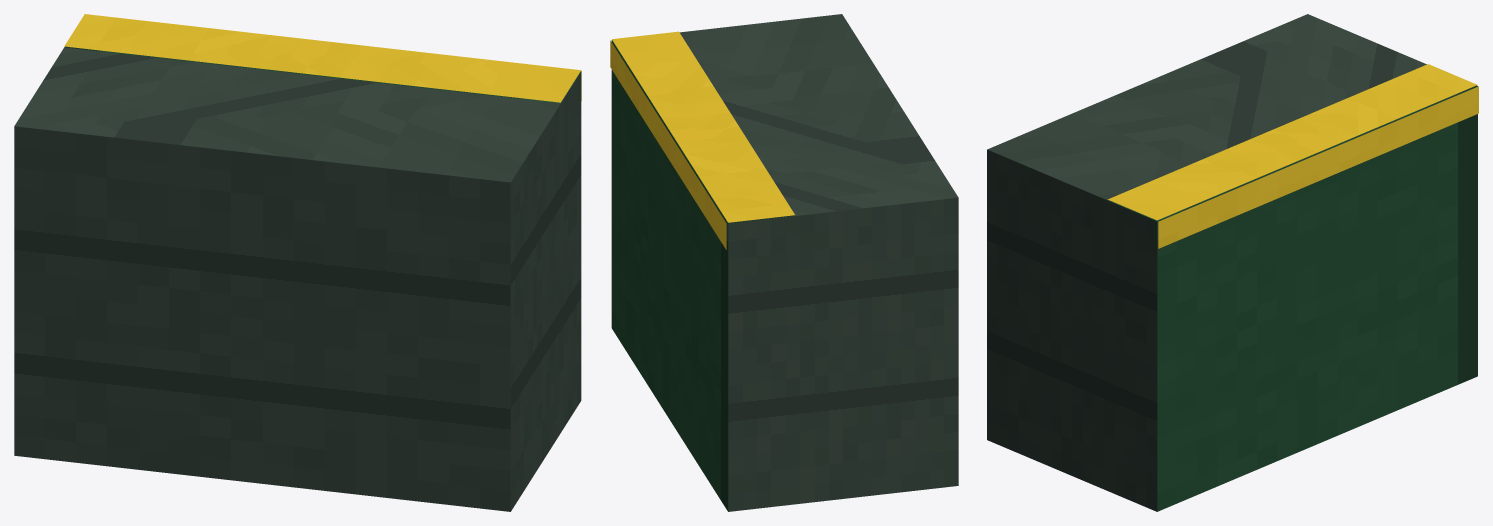
Rendered from wall_diagonal_top.obj.
3 views of the same model, side by side, from view 1: azimuth 30°, elevation 25°; view 2: azimuth 150°, elevation 25°; view 3: azimuth 270°, elevation 25° (orthographic). The views are drawn at different scales.
Parts seen in each view (by area): view 1: wall_diagonal_top; view 2: wall_diagonal_top; view 3: wall_diagonal_top.
Boxes of the visible parts, x1=… form: wall_diagonal_top: x1=14, y1=14, x2=581, y2=511; wall_diagonal_top: x1=610, y1=14, x2=958, y2=511; wall_diagonal_top: x1=987, y1=14, x2=1478, y2=511.
Size of the model in its own units: 1.53 by 1 by 1.53.
